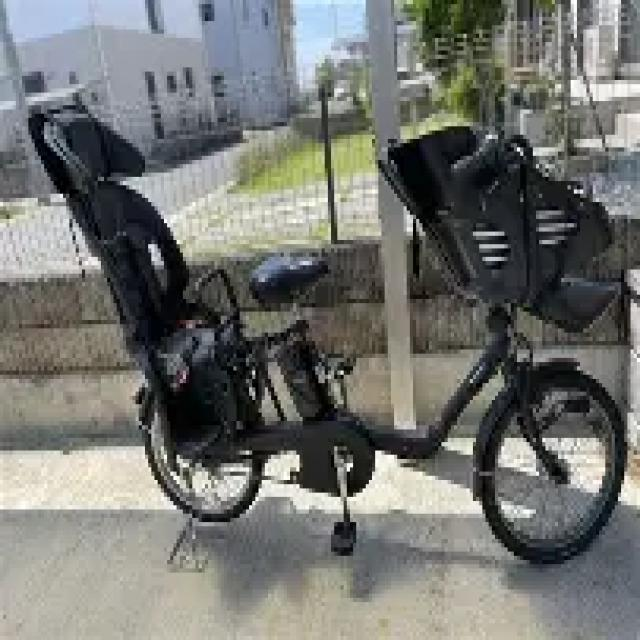battery: (276, 338, 336, 430)
childseat: (22, 101, 251, 468), (376, 125, 618, 343)
